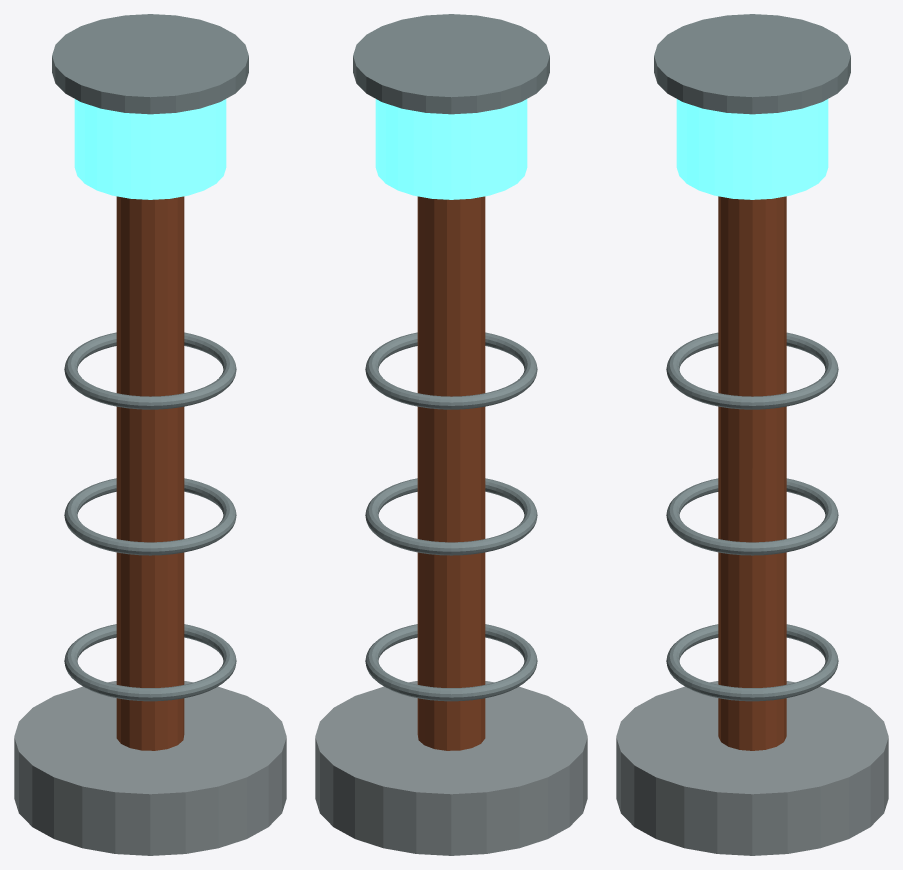
File: SM_FC01_Prop_TideBeacon_A.fbx
3 renders of one model, left to right at view 1: azimuth 30°, elevation 25°; view 2: azimuth 150°, elevation 25°; view 3: azimuth 270°, elevation 25°, orthographic.
Parts seen in each view (by area): view 1: SM_FC01_Prop_TideBeacon_A_Base, SM_FC01_Prop_TideBeacon_A_Mast, SM_FC01_Prop_TideBeacon_A_Cap, SM_FC01_Prop_TideBeacon_A_Light, トーラス.002, トーラス.001, トーラス; view 2: SM_FC01_Prop_TideBeacon_A_Base, SM_FC01_Prop_TideBeacon_A_Mast, SM_FC01_Prop_TideBeacon_A_Cap, SM_FC01_Prop_TideBeacon_A_Light, トーラス.002, トーラス.001, トーラス; view 3: SM_FC01_Prop_TideBeacon_A_Base, SM_FC01_Prop_TideBeacon_A_Mast, SM_FC01_Prop_TideBeacon_A_Cap, SM_FC01_Prop_TideBeacon_A_Light, トーラス.002, トーラス.001, トーラス.
Part boxes in pixels (bbox=[...]): SM_FC01_Prop_TideBeacon_A_Base: bbox=[14, 681, 286, 855]; SM_FC01_Prop_TideBeacon_A_Mast: bbox=[116, 196, 184, 750]; SM_FC01_Prop_TideBeacon_A_Cap: bbox=[52, 14, 248, 114]; SM_FC01_Prop_TideBeacon_A_Light: bbox=[74, 99, 226, 199]; トーラス.002: bbox=[64, 332, 236, 409]; トーラス.001: bbox=[64, 478, 236, 555]; トーラス: bbox=[64, 624, 236, 701]; SM_FC01_Prop_TideBeacon_A_Base: bbox=[315, 681, 587, 855]; SM_FC01_Prop_TideBeacon_A_Mast: bbox=[417, 196, 485, 750]; SM_FC01_Prop_TideBeacon_A_Cap: bbox=[353, 14, 549, 114]; SM_FC01_Prop_TideBeacon_A_Light: bbox=[375, 99, 527, 199]; トーラス.002: bbox=[365, 332, 537, 409]; トーラス.001: bbox=[365, 478, 537, 555]; トーラス: bbox=[365, 624, 537, 701]; SM_FC01_Prop_TideBeacon_A_Base: bbox=[616, 681, 888, 855]; SM_FC01_Prop_TideBeacon_A_Mast: bbox=[718, 196, 786, 750]; SM_FC01_Prop_TideBeacon_A_Cap: bbox=[654, 14, 850, 114]; SM_FC01_Prop_TideBeacon_A_Light: bbox=[676, 99, 828, 199]; トーラス.002: bbox=[666, 332, 838, 409]; トーラス.001: bbox=[666, 478, 838, 555]; トーラス: bbox=[666, 624, 838, 701].
Size of the model in its own units: 1.44 by 4.33 by 1.44.
